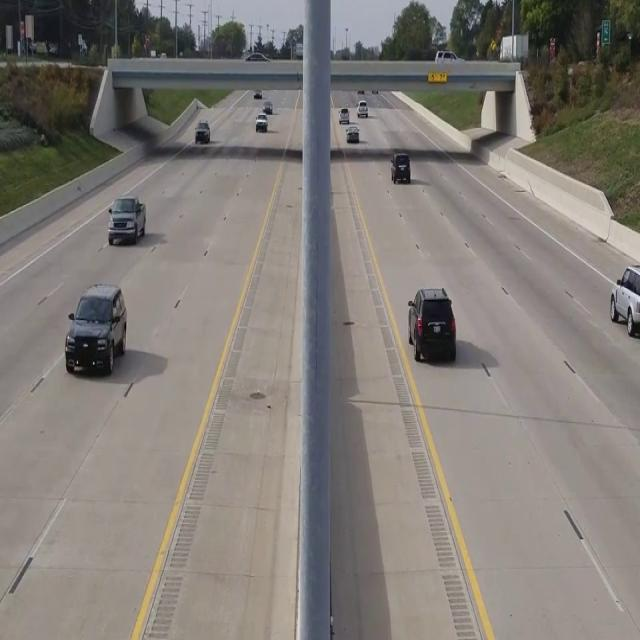car: (64, 283, 127, 376), (407, 286, 456, 362), (609, 264, 640, 340), (108, 194, 146, 246), (390, 150, 410, 183), (195, 120, 210, 143)
